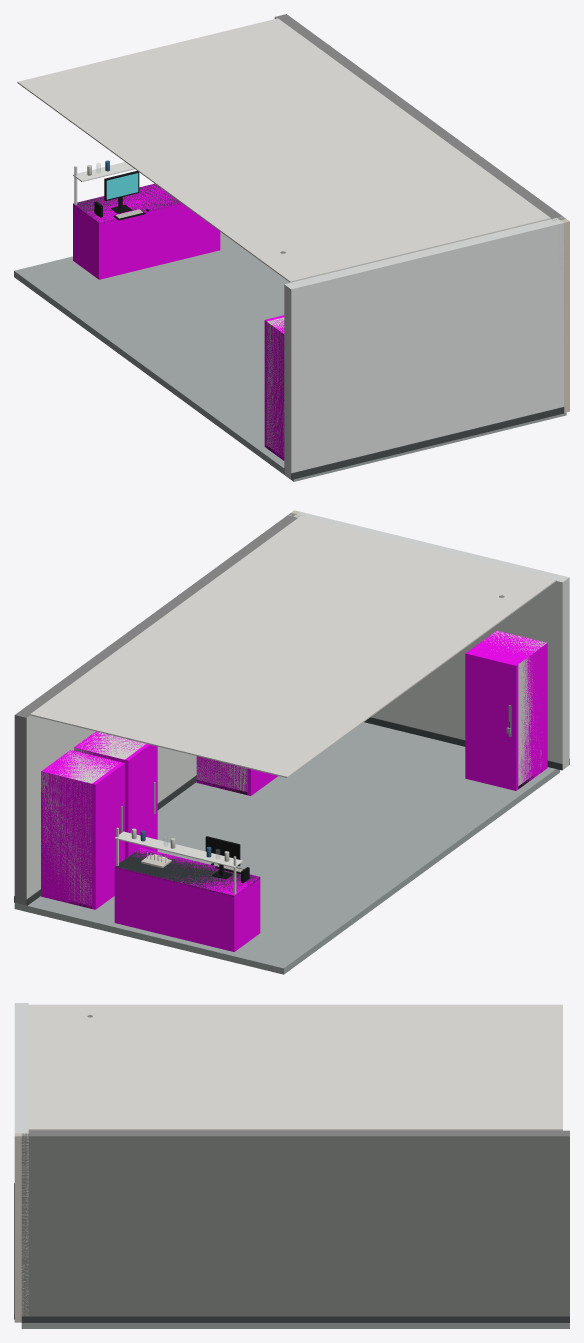
Rendered from ENV_SecureSampleStorage.glb.
3 renders of one model, top to bottom at view 1: azimuth 30°, elevation 25°; view 2: azimuth 150°, elevation 25°; view 3: azimuth 270°, elevation 25°, orthographic. The views are drawn at different scales.
Parts seen in each view (by area): view 1: ENV_SecureSampleStorage_Architecture, ENV_SecureSampleStorage_Ceiling, PROP_Bench_Lab_2m_COL-colonly.002, PROP_Freezer_Upright_ULT_COL-colonly.006, PROP_Bench_Lab_2m_Mesh.002, PROP_Freezer_Upright_ULT_Mesh.006, ENV_SecureSampleStorage_Posts, PROP_Terminal_EHR_Mesh.003, PROP_Terminal_EHR_Screen.003; view 2: ENV_SecureSampleStorage_Architecture, ENV_SecureSampleStorage_Ceiling, PROP_Freezer_Upright_ULT_COL-colonly.005, PROP_Freezer_Upright_ULT_COL-colonly.006, PROP_Bench_Lab_2m_COL-colonly.002, PROP_Bench_Lab_2m_Mesh.002, PROP_Freezer_Upright_ULT_COL-colonly.004, PROP_Freezer_Upright_ULT_Mesh.005, PROP_Freezer_Upright_ULT_Mesh.006, PROP_Freezer_Upright_ULT_COL-colonly.003, PROP_Freezer_Upright_ULT_Mesh.003, PROP_Freezer_Upright_ULT_Mesh.004 (+1 smaller); view 3: ENV_SecureSampleStorage_Architecture, ENV_SecureSampleStorage_Ceiling, ENV_SecureSampleStorage_Posts.
Boxes of the visible parts, x1,y1,x2,y2 form: ENV_SecureSampleStorage_Architecture: (14, 14, 566, 481); ENV_SecureSampleStorage_Ceiling: (17, 18, 550, 282); PROP_Bench_Lab_2m_COL-colonly.002: (73, 184, 220, 279); PROP_Freezer_Upright_ULT_COL-colonly.006: (264, 315, 284, 460); PROP_Bench_Lab_2m_Mesh.002: (73, 160, 180, 223); PROP_Freezer_Upright_ULT_Mesh.006: (266, 317, 284, 460); ENV_SecureSampleStorage_Posts: (551, 216, 569, 412); PROP_Terminal_EHR_Mesh.003: (94, 171, 149, 220); PROP_Terminal_EHR_Screen.003: (106, 173, 138, 199); ENV_SecureSampleStorage_Architecture: (14, 511, 569, 974); ENV_SecureSampleStorage_Ceiling: (30, 517, 556, 777); PROP_Freezer_Upright_ULT_COL-colonly.005: (41, 750, 124, 909); PROP_Freezer_Upright_ULT_COL-colonly.006: (465, 630, 547, 790); PROP_Bench_Lab_2m_COL-colonly.002: (114, 847, 260, 951); PROP_Bench_Lab_2m_Mesh.002: (115, 827, 260, 896); PROP_Freezer_Upright_ULT_COL-colonly.004: (74, 731, 157, 858); PROP_Freezer_Upright_ULT_Mesh.005: (41, 750, 122, 908); PROP_Freezer_Upright_ULT_Mesh.006: (484, 630, 546, 788); PROP_Freezer_Upright_ULT_COL-colonly.003: (196, 756, 277, 795); PROP_Freezer_Upright_ULT_Mesh.003: (196, 756, 247, 794); PROP_Freezer_Upright_ULT_Mesh.004: (74, 732, 155, 814); ENV_SecureSampleStorage_Architecture: (14, 1003, 569, 1328); ENV_SecureSampleStorage_Ceiling: (28, 1004, 562, 1130); ENV_SecureSampleStorage_Posts: (14, 1133, 28, 1322).
Size of what is drawn, in the model's own units: 4.61 by 3.13 by 8.11.
